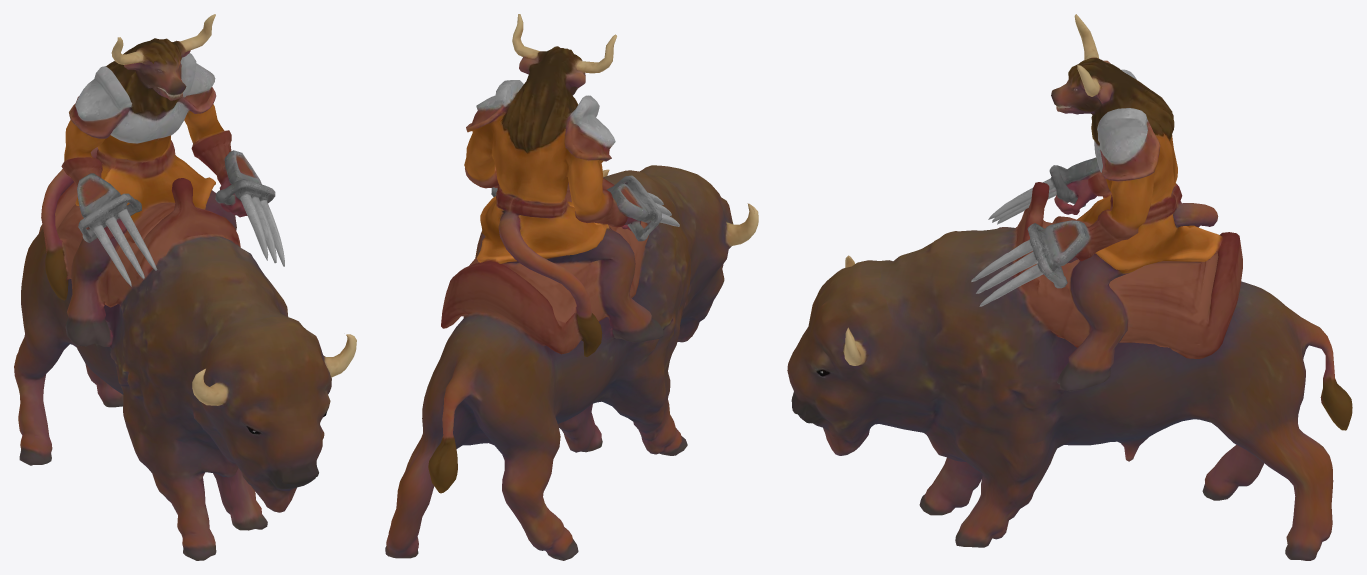
The model's file is MZ4250 - Minotaur on a Buffalo.glb.
3 renders of one model, left to right at view 1: azimuth 30°, elevation 25°; view 2: azimuth 150°, elevation 25°; view 3: azimuth 270°, elevation 25°, orthographic. The views are drawn at different scales.
Parts seen in each view (by area): view 1: Minotaur_Fighter_on_Buffalo_low.001; view 2: Minotaur_Fighter_on_Buffalo_low.001; view 3: Minotaur_Fighter_on_Buffalo_low.001.
Part boxes in pixels (x1,y1,x2,y2): Minotaur_Fighter_on_Buffalo_low.001: (14, 14, 356, 560); Minotaur_Fighter_on_Buffalo_low.001: (385, 14, 758, 560); Minotaur_Fighter_on_Buffalo_low.001: (787, 14, 1352, 560).
Bounding box in the file's own units: 0.9455 × 2.24 × 2.35.
1 material, 1 textured.
